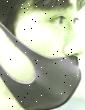mask_weared_incorrect: (2, 1, 85, 110)
